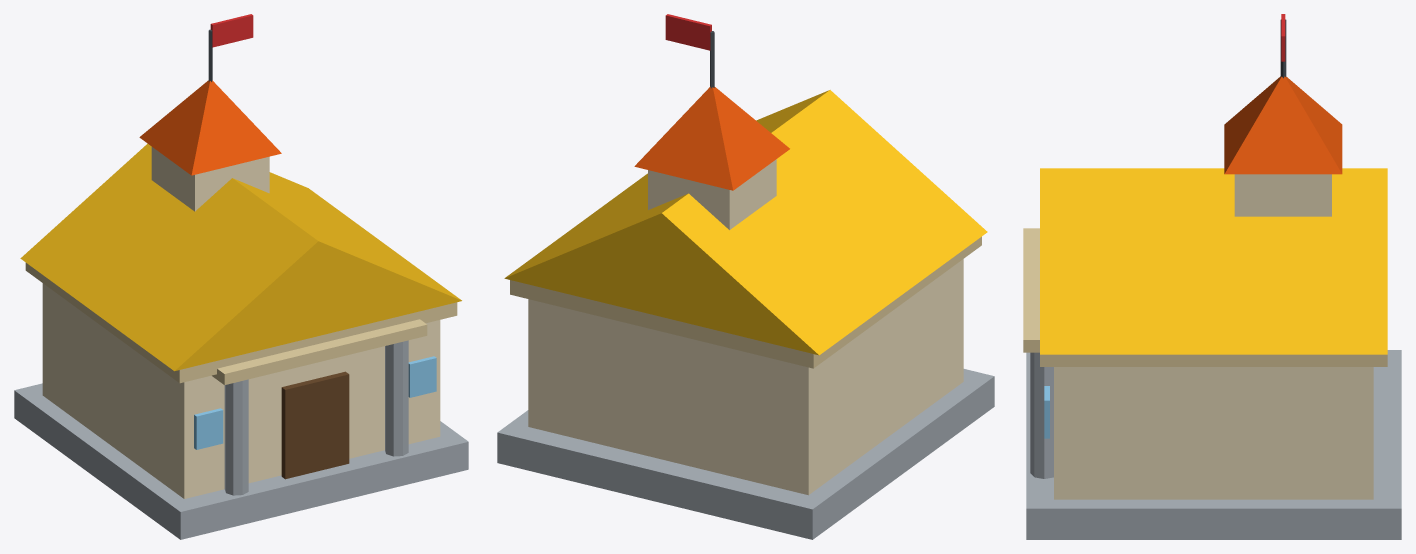
File: townhall_prefeitura.glb
3 views of the same model, side by side, from view 1: azimuth 30°, elevation 25°; view 2: azimuth 150°, elevation 25°; view 3: azimuth 270°, elevation 25° (orthographic). The views are drawn at different scales.
Parts seen in each view (by area): view 1: telhado_prefeitura, parede, pedra.004, parede_sombra, telha, porta.005, vidro.004, bandeira; view 2: telhado_prefeitura, parede, pedra.004, telha, parede_sombra, bandeira; view 3: telhado_prefeitura, parede, pedra.004, telha, parede_sombra.
Boxes of the visible parts, bbox=[...] form: telhado_prefeitura: bbox=[20, 143, 461, 371]; parede: bbox=[42, 147, 440, 498]; pedra.004: bbox=[14, 340, 468, 539]; parede_sombra: bbox=[25, 263, 457, 385]; telha: bbox=[139, 80, 281, 175]; porta.005: bbox=[281, 371, 349, 479]; vidro.004: bbox=[194, 356, 436, 449]; bandeira: bbox=[210, 14, 253, 47]; telhado_prefeitura: bbox=[504, 90, 987, 355]; parede: bbox=[528, 159, 963, 495]; pedra.004: bbox=[497, 369, 994, 539]; telha: bbox=[634, 86, 789, 190]; parede_sombra: bbox=[510, 236, 981, 368]; bandeira: bbox=[665, 14, 711, 50]; telhado_prefeitura: bbox=[1040, 168, 1387, 354]; parede: bbox=[1054, 174, 1373, 499]; pedra.004: bbox=[1026, 350, 1401, 539]; telha: bbox=[1224, 76, 1342, 174]; parede_sombra: bbox=[1023, 228, 1387, 366].
Bounding box in the file's own units: 2.7 × 3.55 × 2.72.
